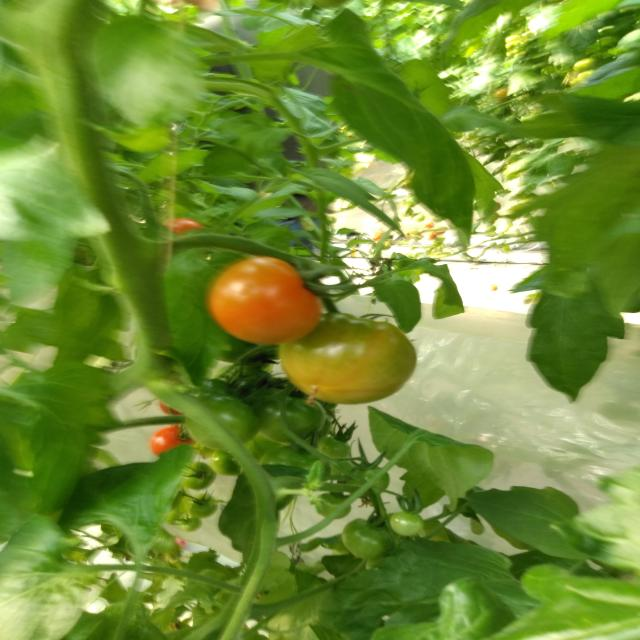yesil: (302, 319, 456, 423)
